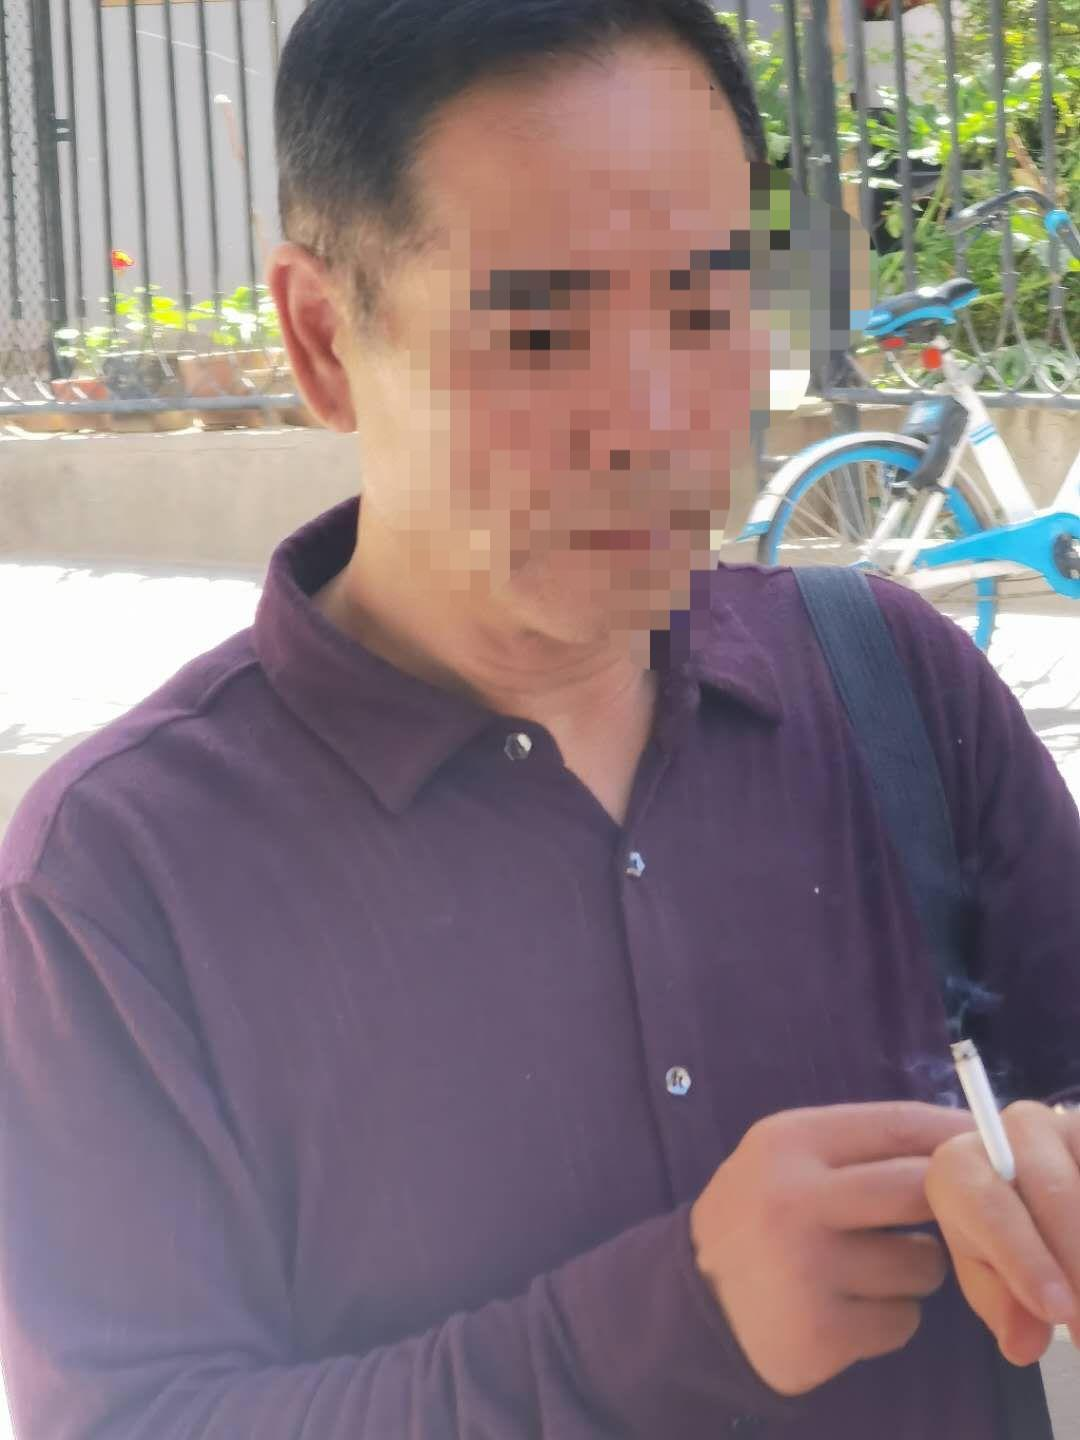smoke: (940, 1036, 1031, 1188)
